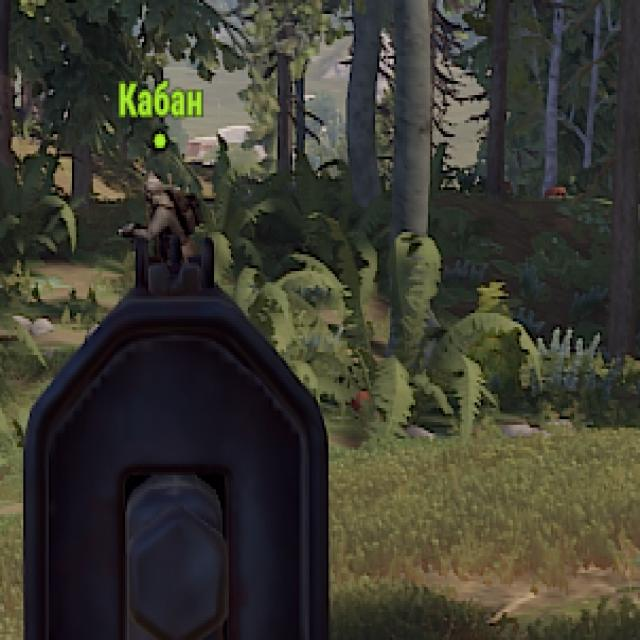Player: (130, 168, 200, 242)
